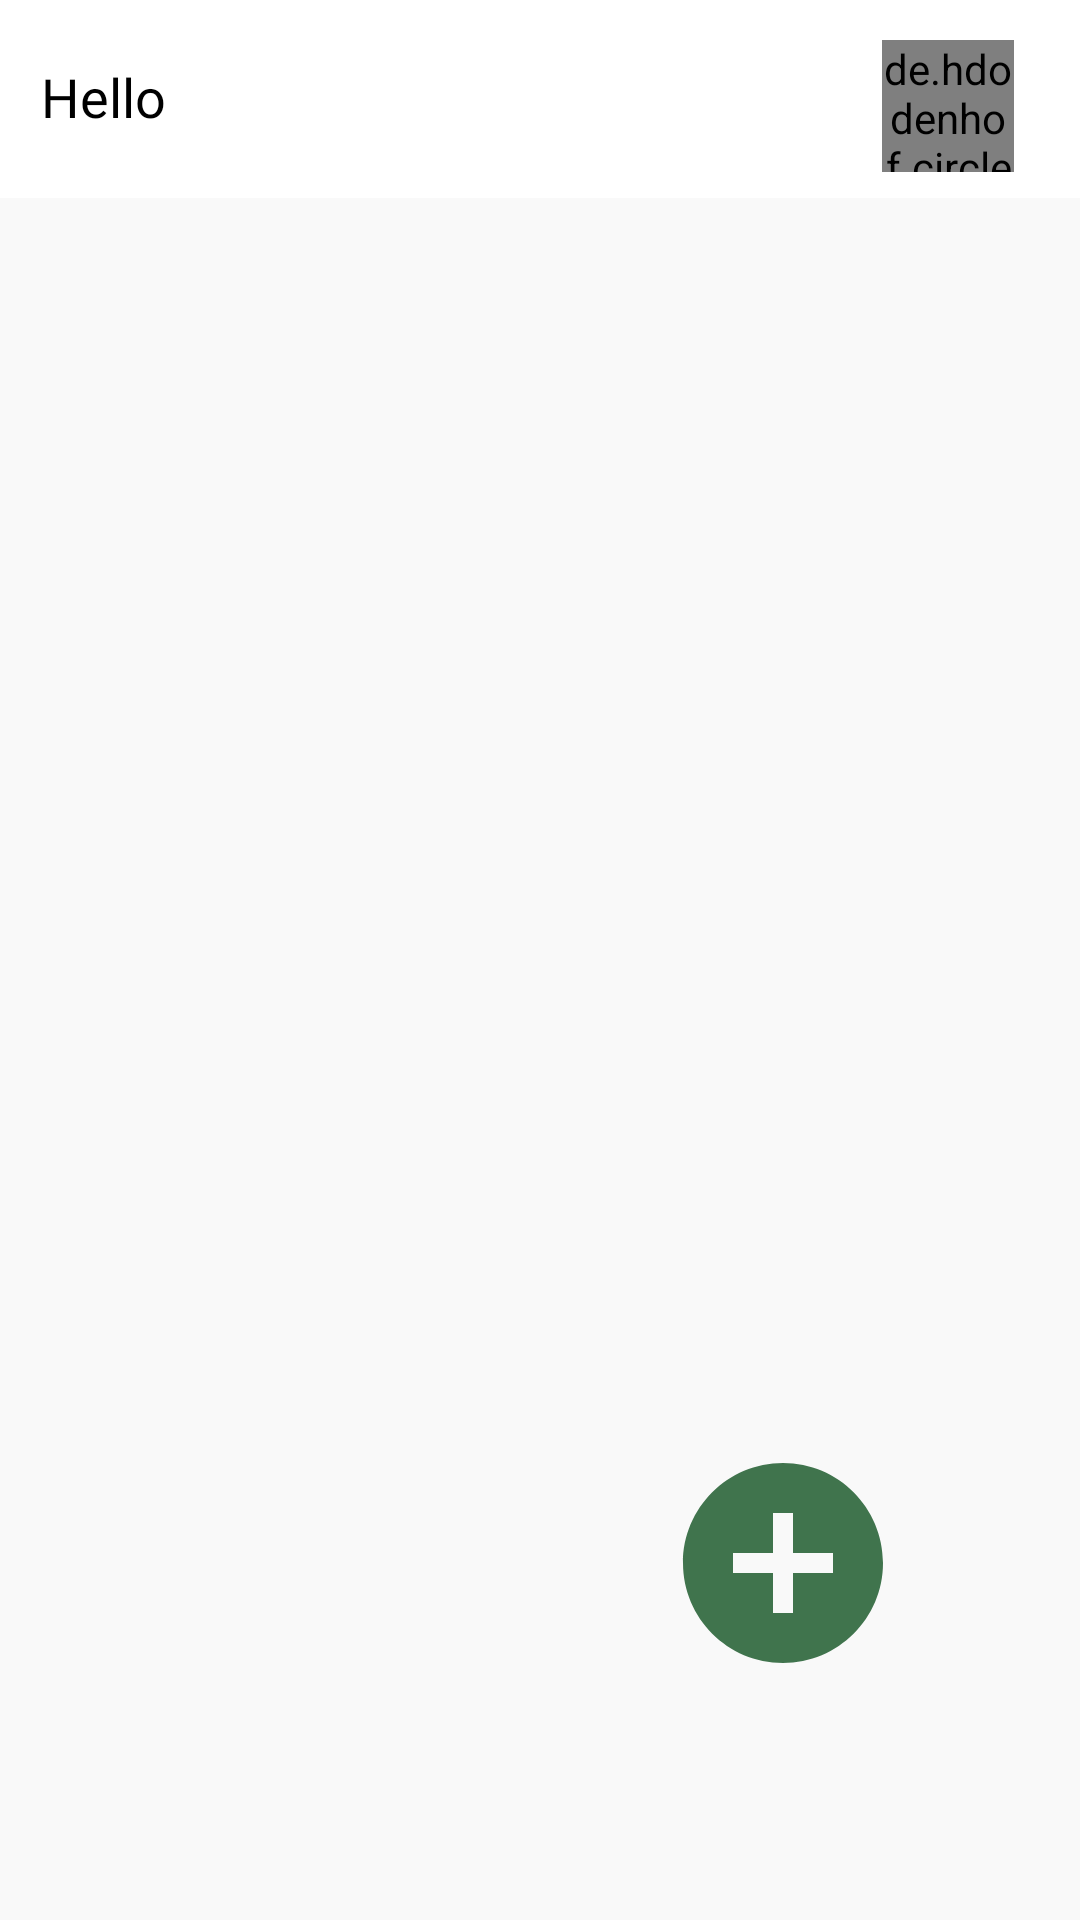

Named icons in this screenshot (1080×1920) and their centers, point (x, y):
add: point (783, 1563)
